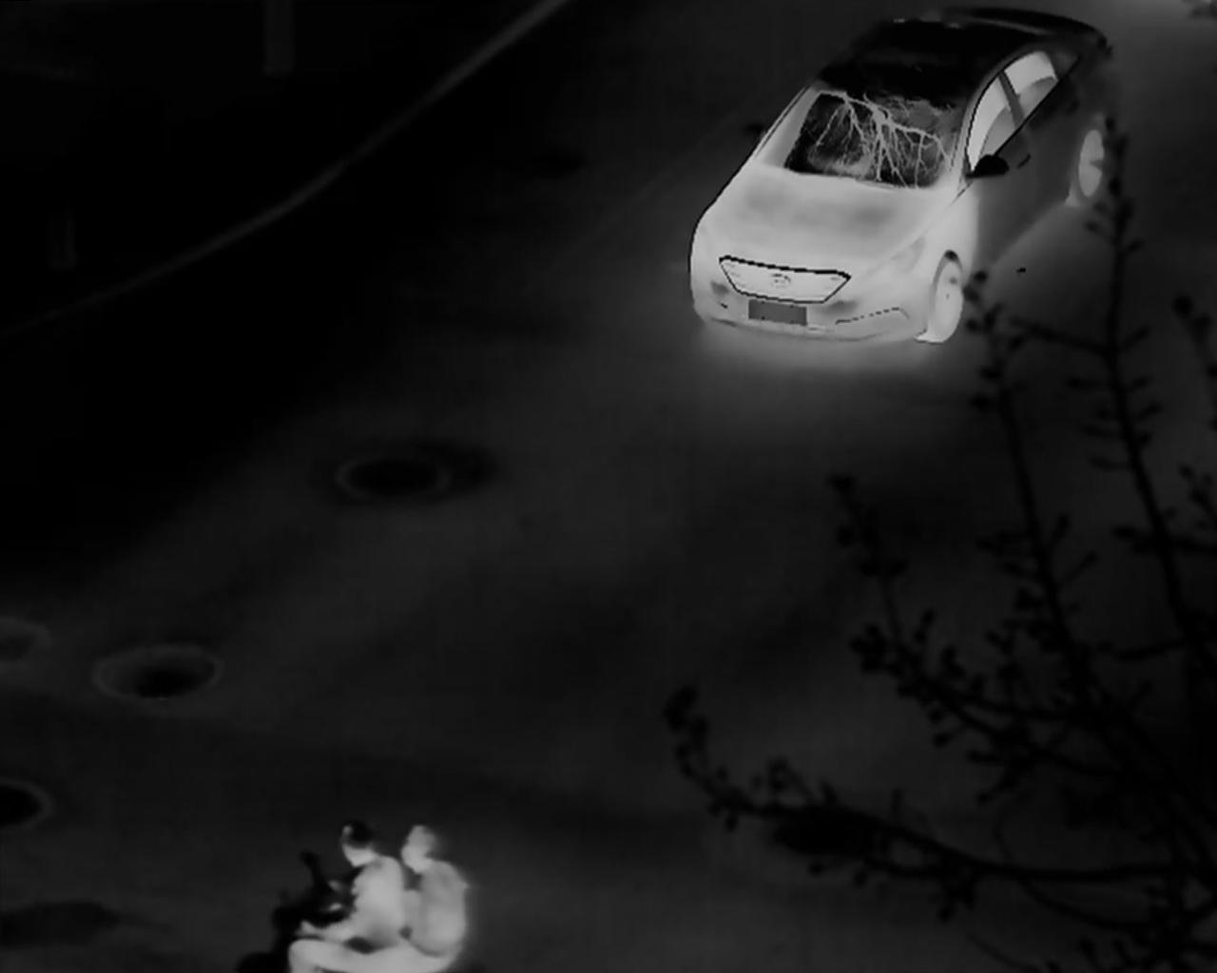person: (303, 824, 404, 973), (392, 824, 472, 973)
